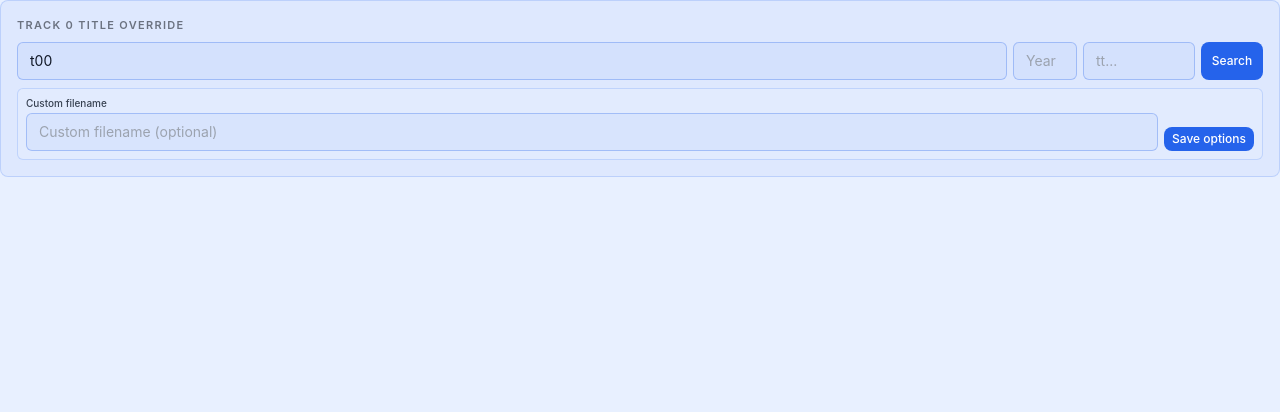
Scenario: TrackTitleSearch › interactions › shows detail editor when result is selected
Click the button "Search" at coordinates (1232, 60), box [1201,42,1263,80]
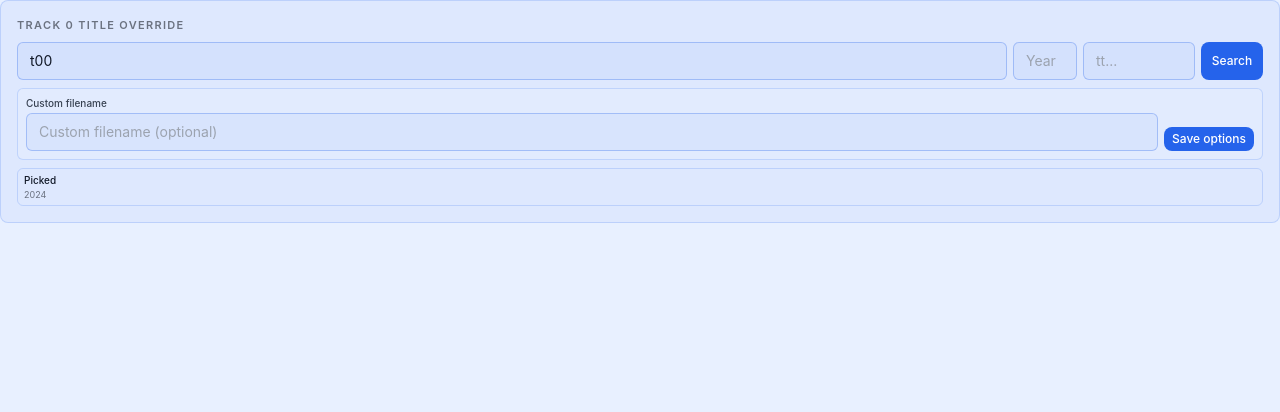
Check: the text "Picked" is shown
Click the text "Picked" at coordinates (40, 180), box [24,172,56,188]
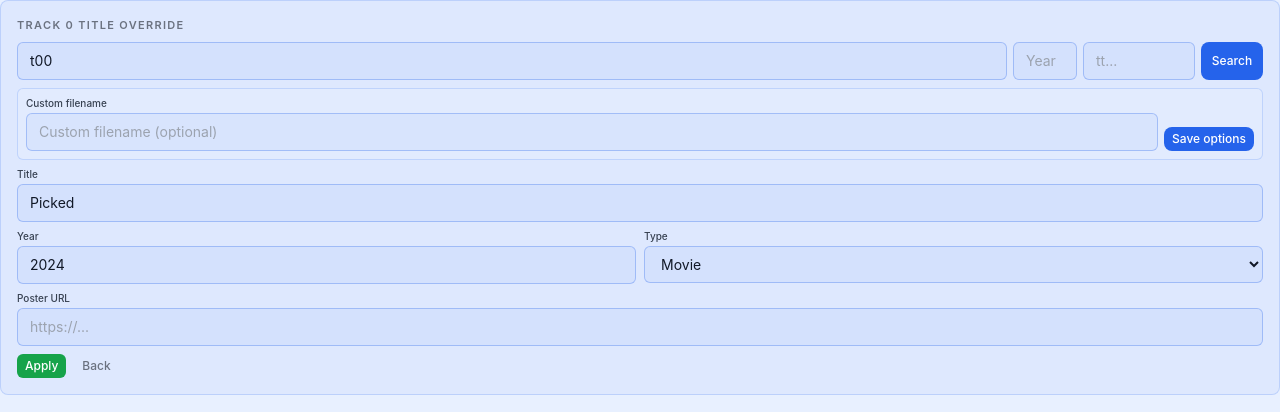
Check: the field showing "Picked" is shown, box [17,184,1263,222]
Check: the button "Apply" is shown, box [17,354,66,378]
